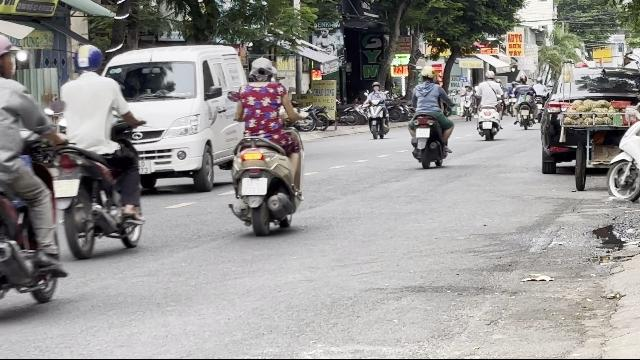helmet: (73, 44, 105, 76)
licenseplate: (53, 179, 77, 195), (242, 178, 266, 194), (416, 127, 428, 136)
motorcyclist: (47, 44, 147, 256), (0, 33, 68, 327), (223, 55, 307, 236)
nohelmet: (248, 56, 276, 84)
